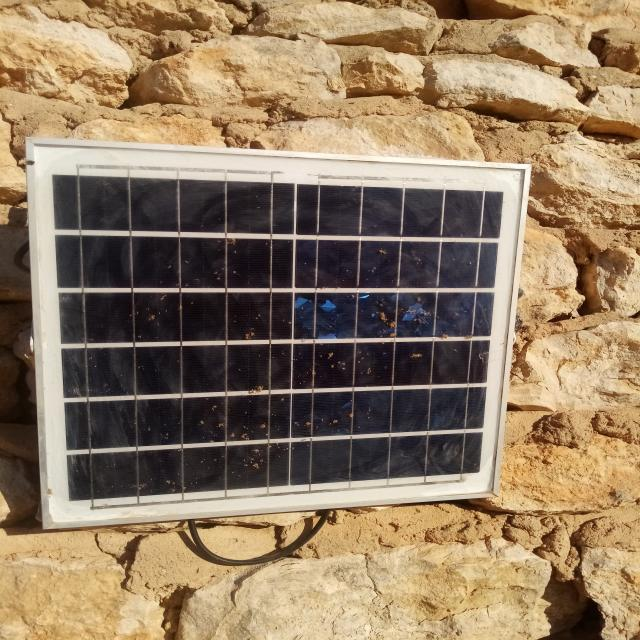faulty: (31, 142, 529, 526)
